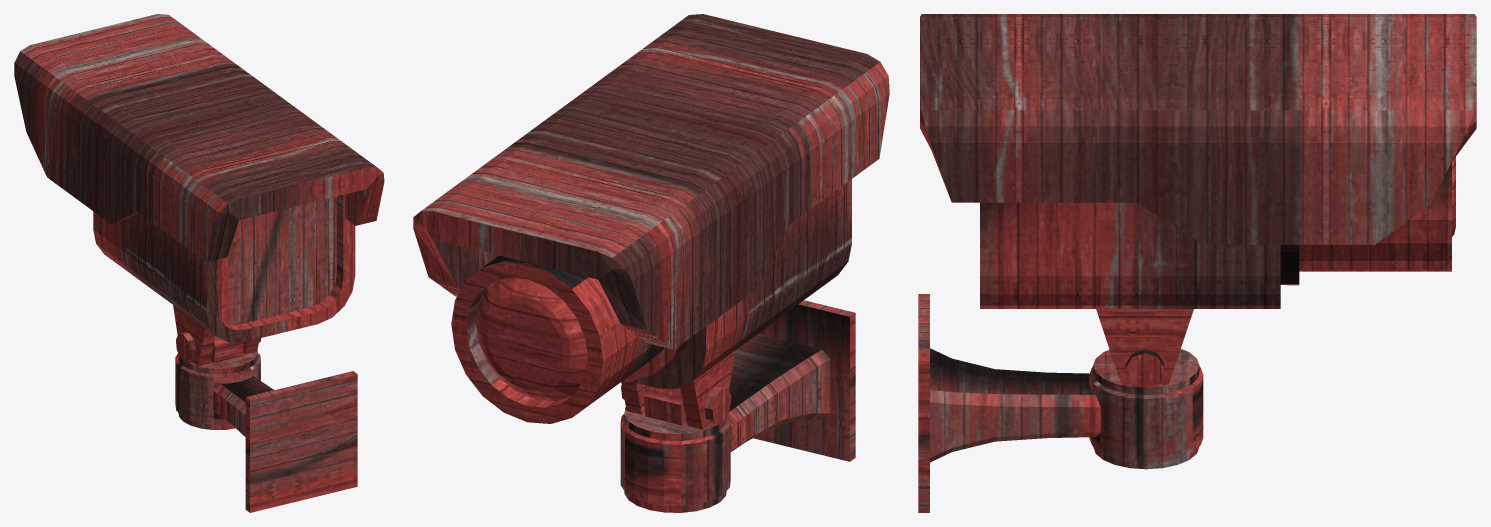
Rendered from camera.obj.
3 views of the same model, side by side, from view 1: azimuth 30°, elevation 25°; view 2: azimuth 150°, elevation 25°; view 3: azimuth 270°, elevation 25° (orthographic). The views are drawn at different scales.
Size of the model in its own units: 0.0864 by 0.1535 by 0.185.
